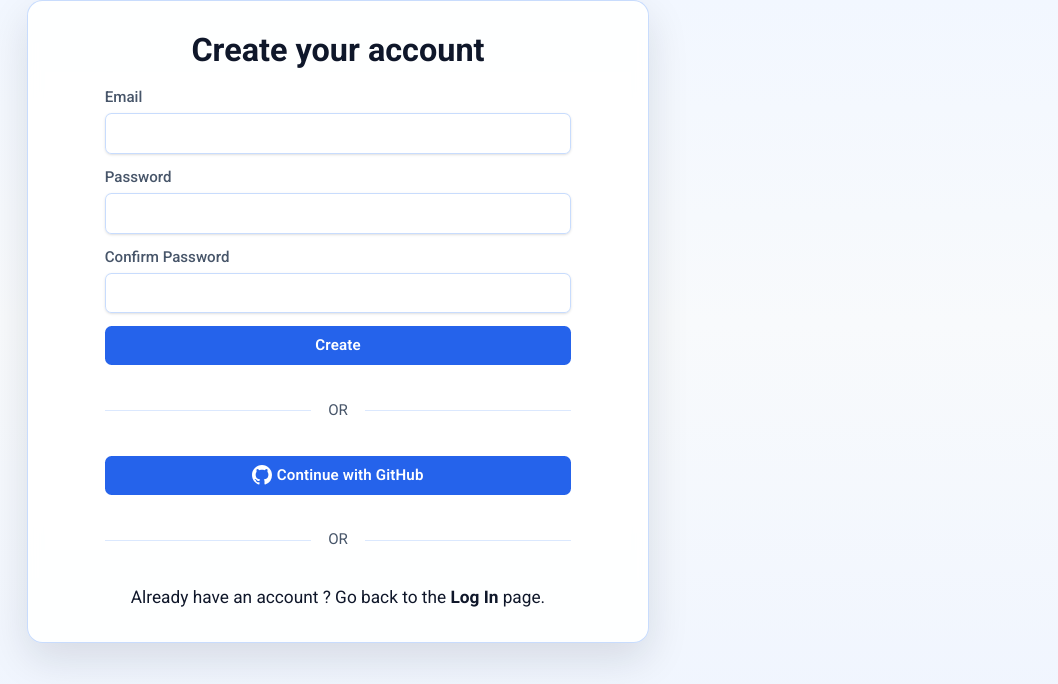
SignUp Form Submit › shows error message when network request throws
The width and height of the screenshot is (1058, 684).
Type "newemail@mail.com" into the field labelled "Email" at (338, 134), box [105,113,571,154]
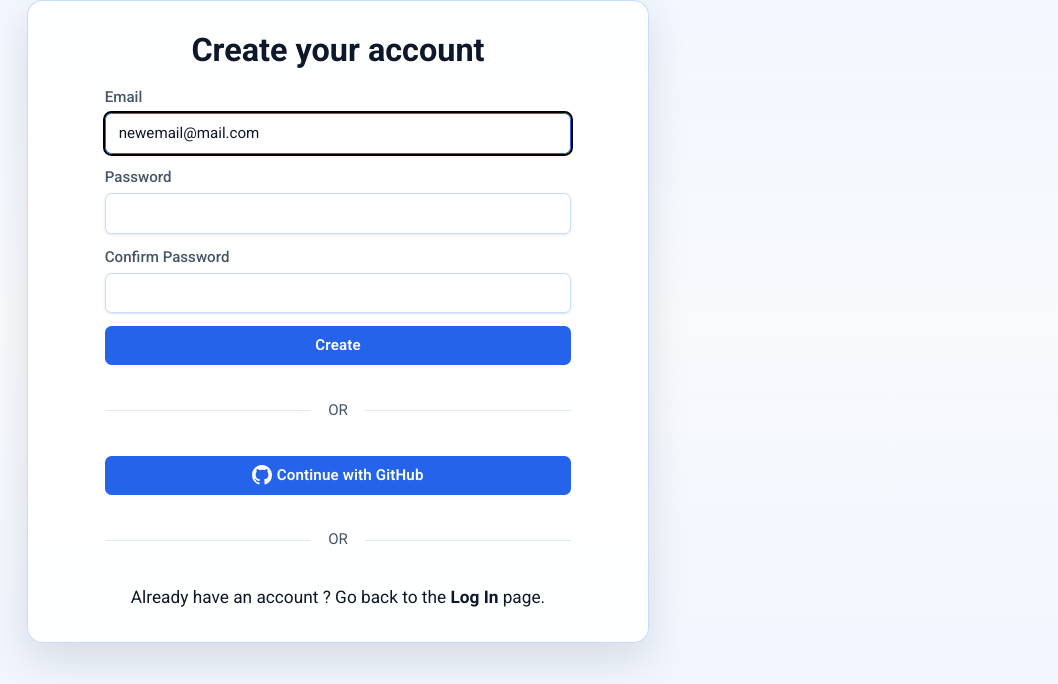
Type "Password123!" into the password field labelled "Password" at (338, 213), box [105,193,571,234]
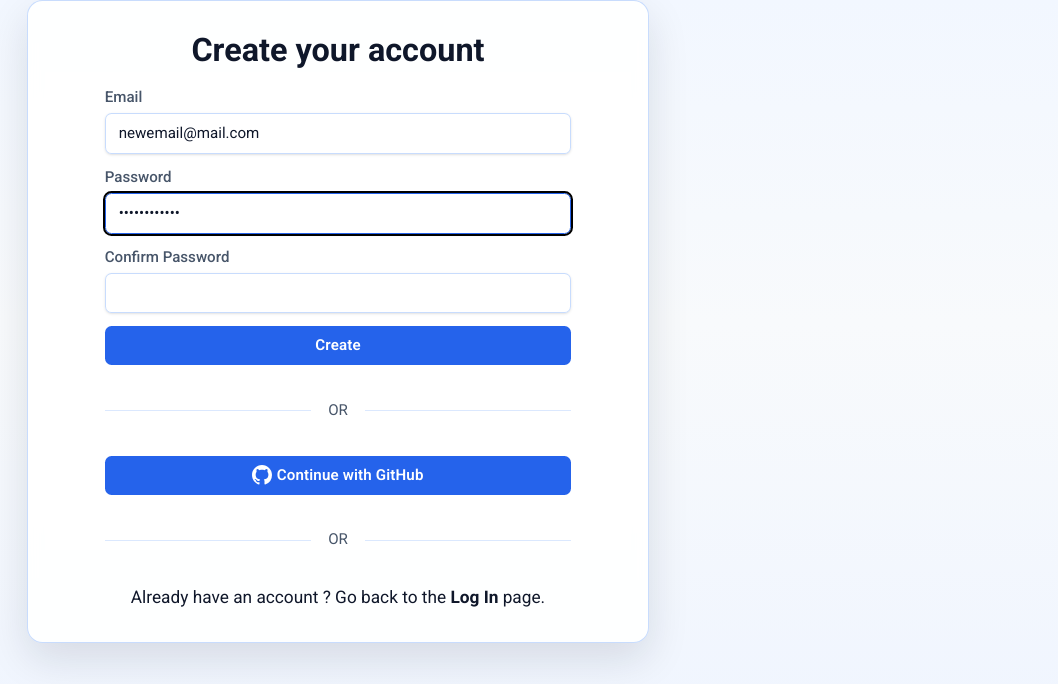
Type "Password123!" into the password field labelled "Confirm Password" at (338, 293), box [105,273,571,313]
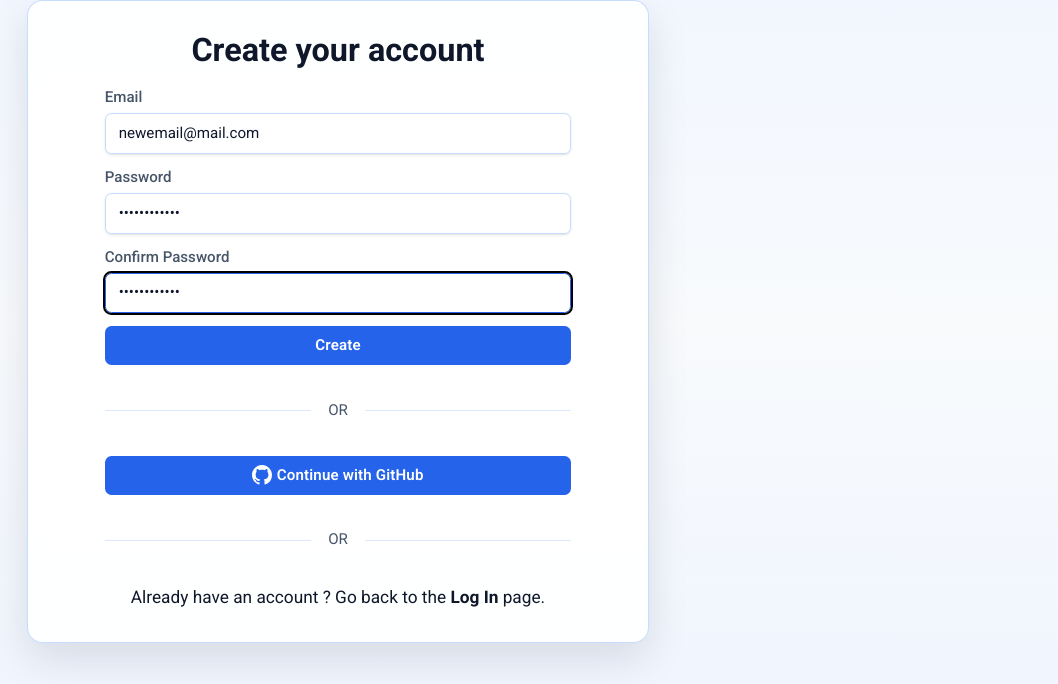
Click the button "Create" at (338, 346), box [105,326,571,365]
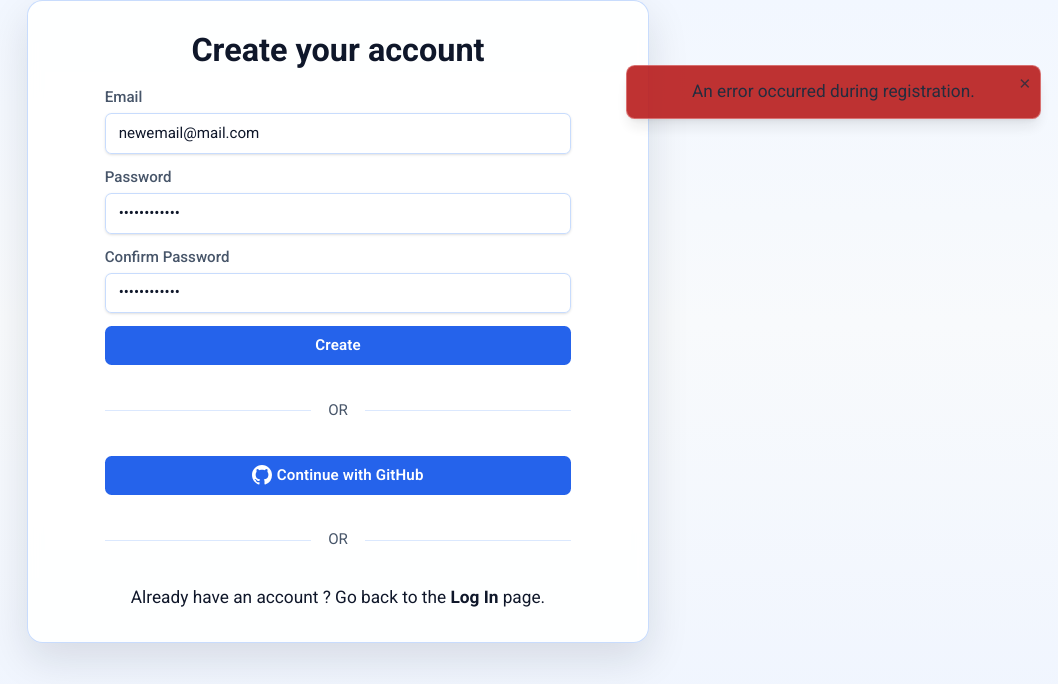
Now the text "An error occurred during registration." is shown, box [692,79,975,105]
